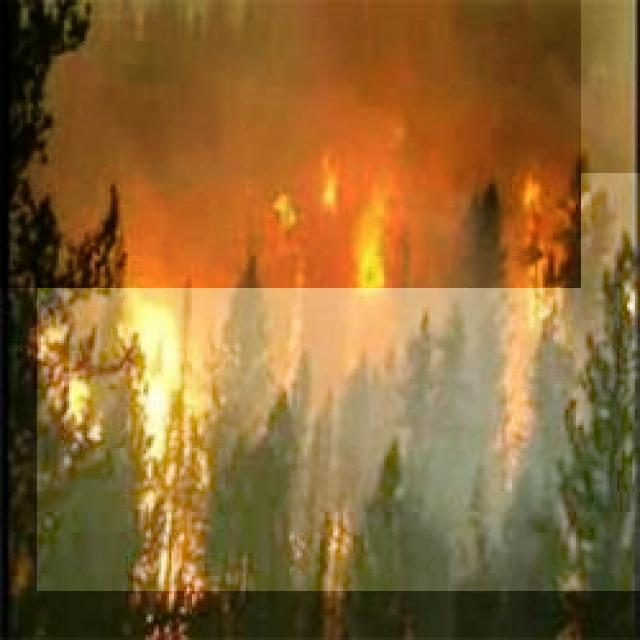Fire: (37, 173, 640, 591)
Smoke: (0, 0, 581, 288)
